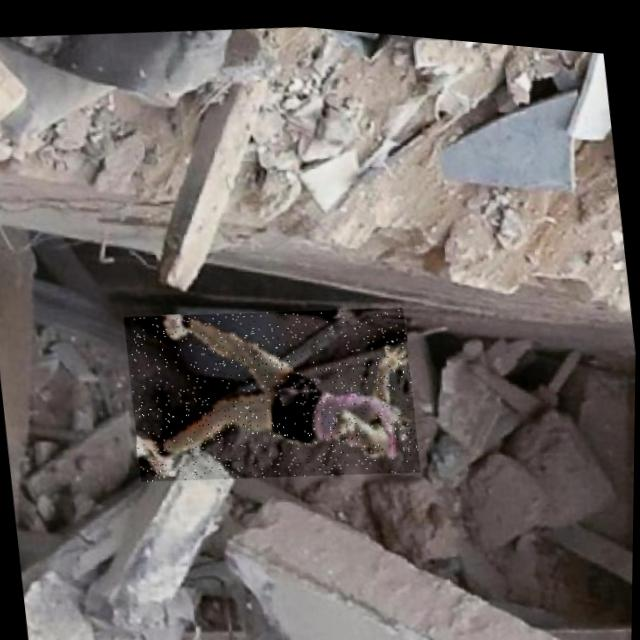Person in Rubble: (121, 280, 422, 498)
